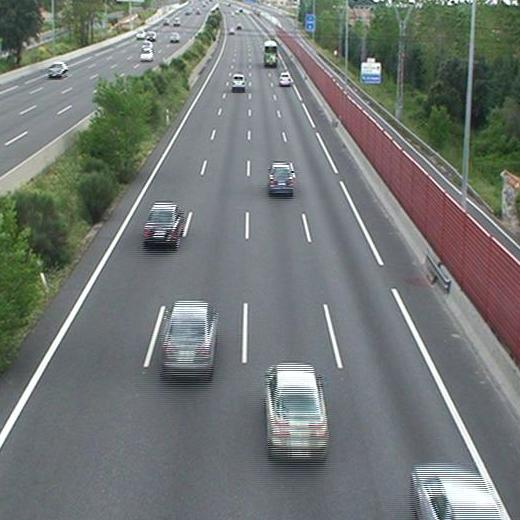car: (267, 364, 328, 458), (161, 302, 215, 374), (143, 203, 182, 243), (269, 164, 293, 193), (279, 73, 292, 86), (232, 74, 245, 87)
van: (263, 40, 278, 67)
